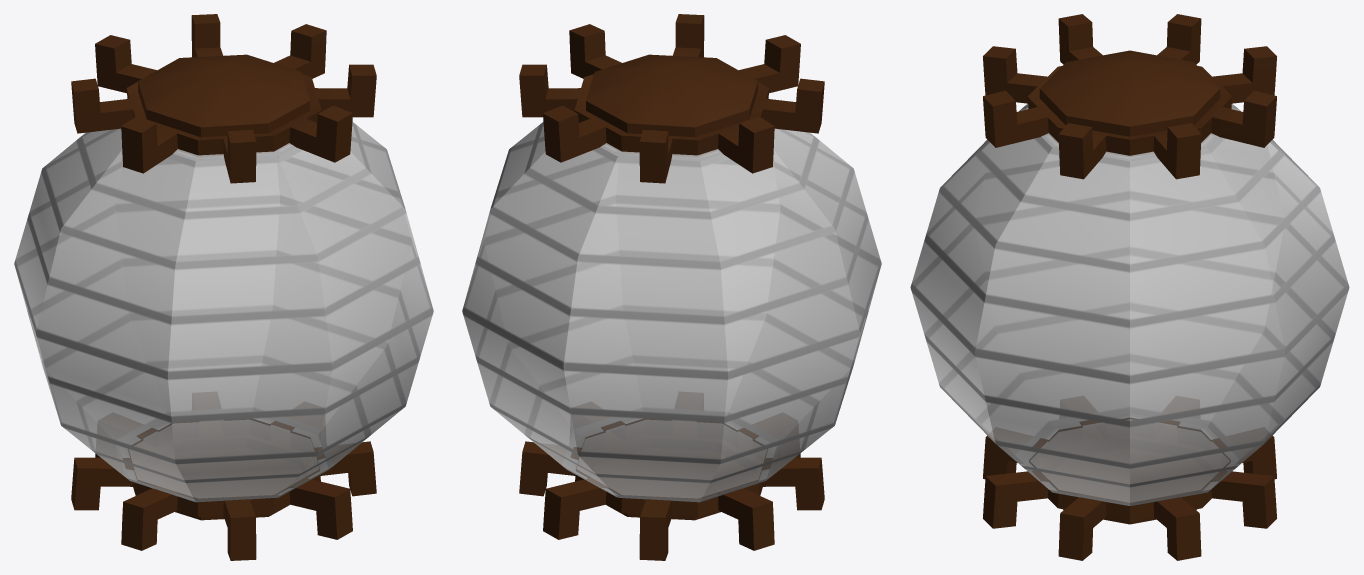
File: lantern.glb
3 renders of one model, left to right at view 1: azimuth 30°, elevation 25°; view 2: azimuth 150°, elevation 25°; view 3: azimuth 270°, elevation 25°, orthographic.
Parts seen in each view (by area): view 1: lantern_round; view 2: lantern_round; view 3: lantern_round.
Boxes of the visible parts, x1,y1,x2,y2 form: lantern_round: (14, 14, 433, 560); lantern_round: (462, 14, 881, 560); lantern_round: (910, 14, 1349, 560).
Bounding box in the file's own units: 0.9484 × 1.07 × 0.9484.
Materials: 1 (1 with a texture image).
